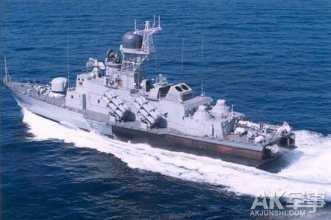warship: (1, 18, 300, 160)
